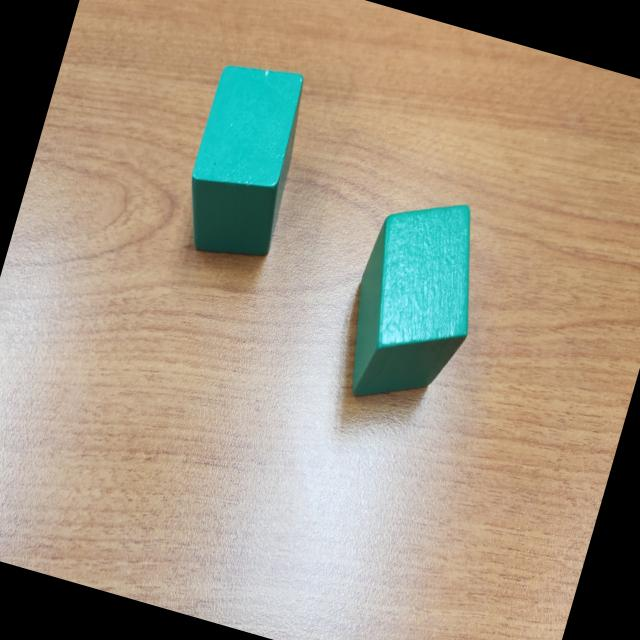green: (328, 180, 500, 424), (170, 53, 318, 272)
